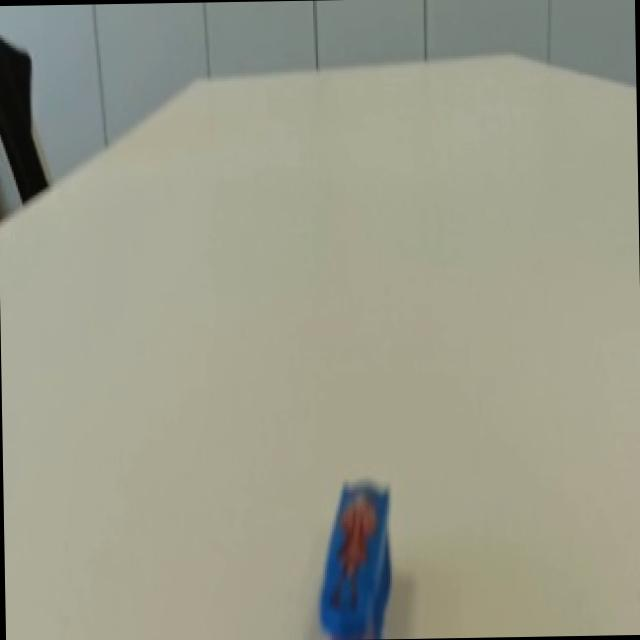1_NanoBug_Azul: (293, 457, 423, 640)
